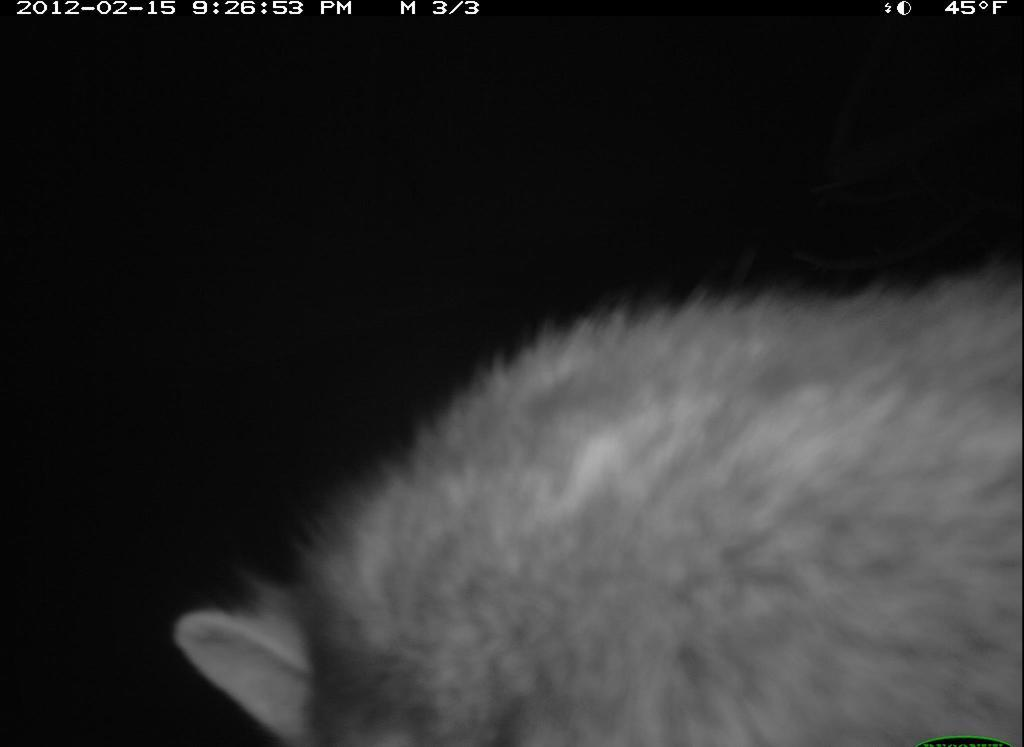raccoon: (173, 264, 1022, 747)
